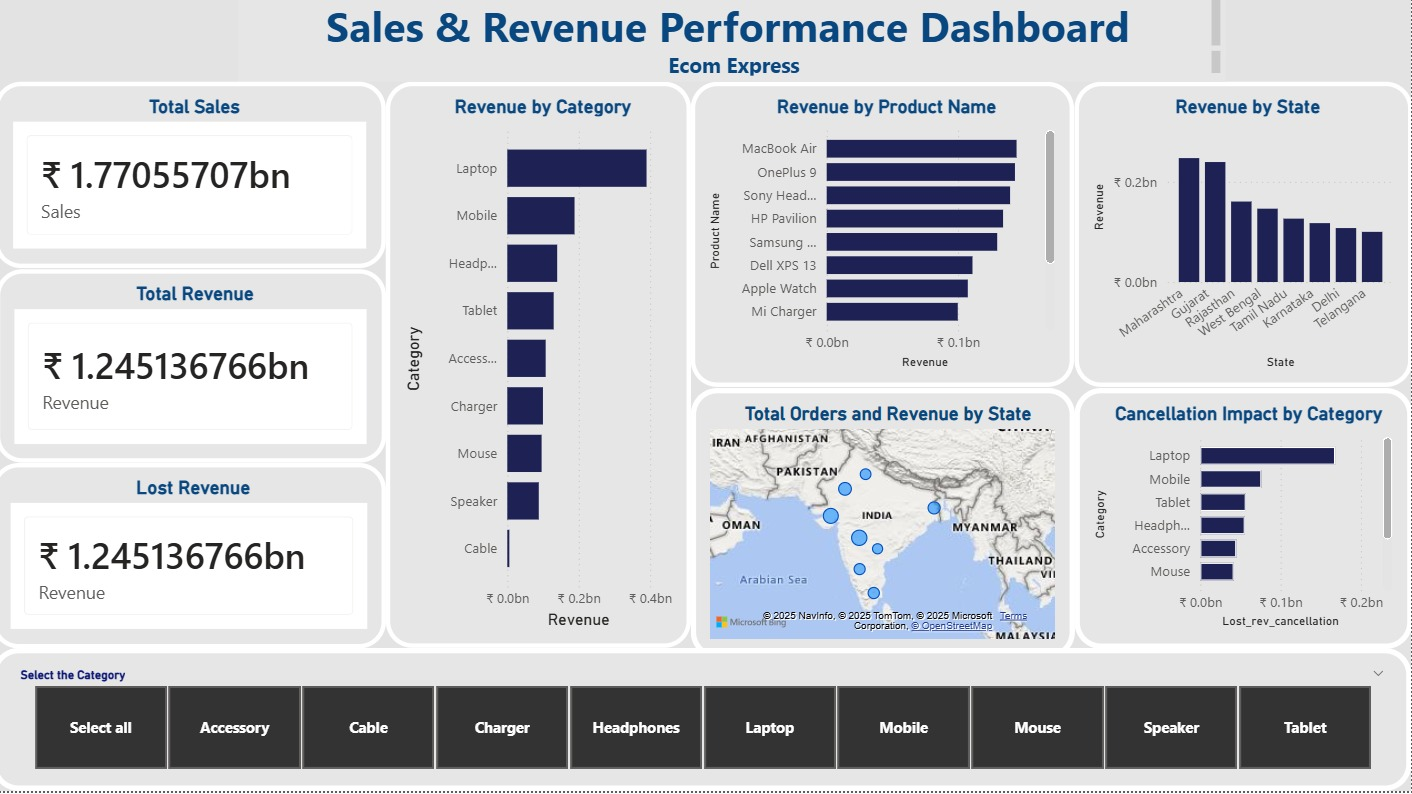

The page's visual inventory and layout, read from the dashboard file:
{"tool":"powerbi","page":{"name":"Page 1","canvas":[1280,720],"ordinal":0},"visuals":[{"type":"barChart","fields":{"Category":["Products.Product Name"],"Y":["table.Revenue"]},"box":[667.4,80.2,308.1,275.6],"z":0},{"type":"barChart","fields":{"Category":["Products.Category"],"Y":["table.Revenue"]},"box":[361.8,80,305.4,507.2],"z":1000},{"type":"columnChart","fields":{"Category":["Customers.State"],"Y":["table.Revenue"]},"box":[975.6,80.2,304.7,275.6],"z":2000},{"type":"clusteredBarChart","title":"Cancellation Impact by Category","fields":{"Category":["Products.Category"],"Y":["table.Lost_rev_cancellation"]},"box":[976.1,356.2,304.3,231.1],"z":3000},{"type":"textbox","box":[222.1,0,890.7,57],"z":4000},{"type":"textbox","box":[222.1,47.7,890.7,32.6],"z":5000},{"type":"map","fields":{"Category":["Customers.State"],"Size":["table.Total Orders"]},"box":[667.3,356.2,310,231.1],"z":6000},{"type":"slicer","fields":{"Values":["Products.Category"]},"box":[0,587.2,1280.4,133],"z":7000},{"type":"cardVisual","title":"Total Revenue","fields":{"Data":["table.Revenue"]},"box":[3.5,208.1,358.1,127.9],"z":8000},{"type":"cardVisual","title":"Total Sales","fields":{"Data":["table.Sales"]},"box":[2.3,80.2,359.3,127.9],"z":9000},{"type":"cardVisual","title":"Lost Revenue","fields":{"Data":["table.Revenue"]},"box":[2.3,336,359.3,127.9],"z":10000},{"type":"cardVisual","title":"Cancellation Rate","fields":{"Data":["table.Cancellation rate"]},"box":[0,464.4,361.8,122.9],"z":11000}]}

Visuals, with their boxes in screenshot pixels (x1, y1, x2, y2), scaled from the page's 1280x720 canvas onto the 1412x794 screenshot:
barChart - Products.Product Name x table.Revenue: 736:88:1076:392
barChart - Products.Category x table.Revenue: 399:88:736:648
columnChart - Customers.State x table.Revenue: 1076:88:1411:392
"Cancellation Impact by Category" clusteredBarChart: 1077:393:1411:648
textbox: 245:0:1228:63
textbox: 245:53:1228:89
map - Customers.State x table.Total Orders: 736:393:1078:648
slicer - Products.Category: 0:648:1411:793
"Total Revenue" cardVisual: 4:229:399:371
"Total Sales" cardVisual: 3:88:399:229
"Lost Revenue" cardVisual: 3:371:399:512
"Cancellation Rate" cardVisual: 0:512:399:648
